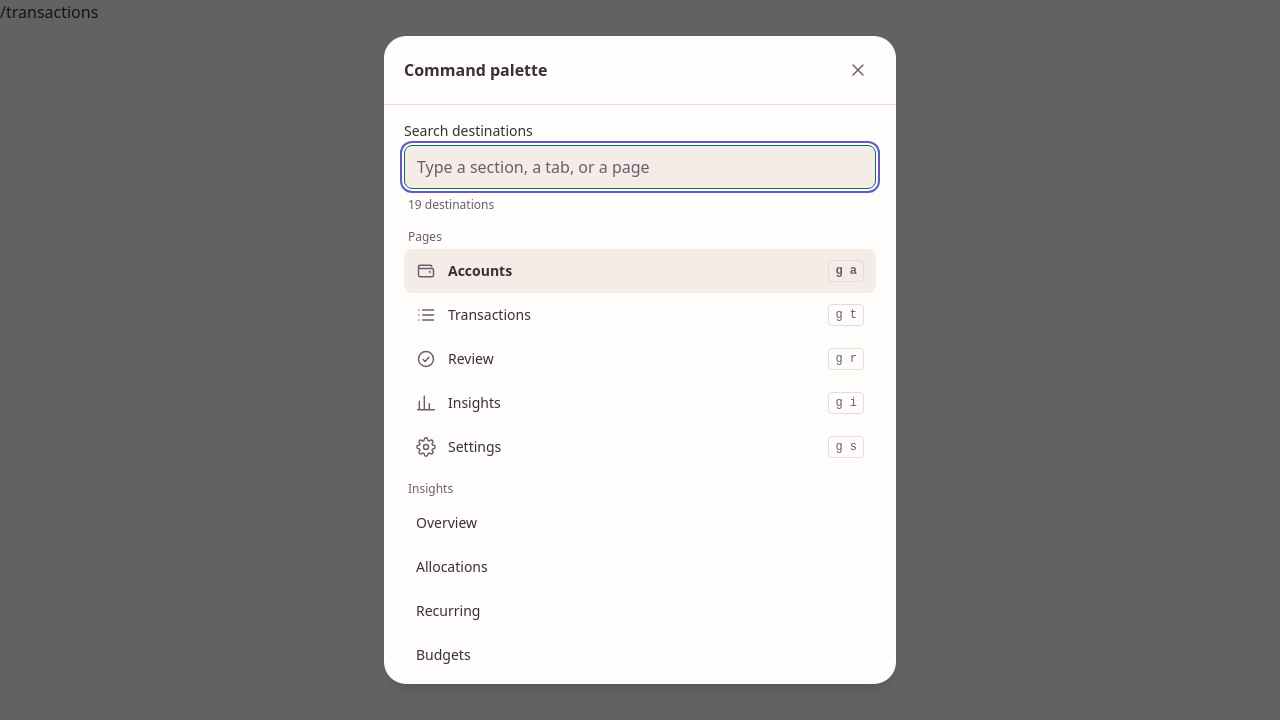
Test: <CommandPalette /> › matches a tab by the section it is in, not only by its own name
The image size is (1280, 720).
Type "settings owner" into the dropdown with test id "palette-input".
click(640, 167); type("settings owner")  # box 404,145 -> 876,189
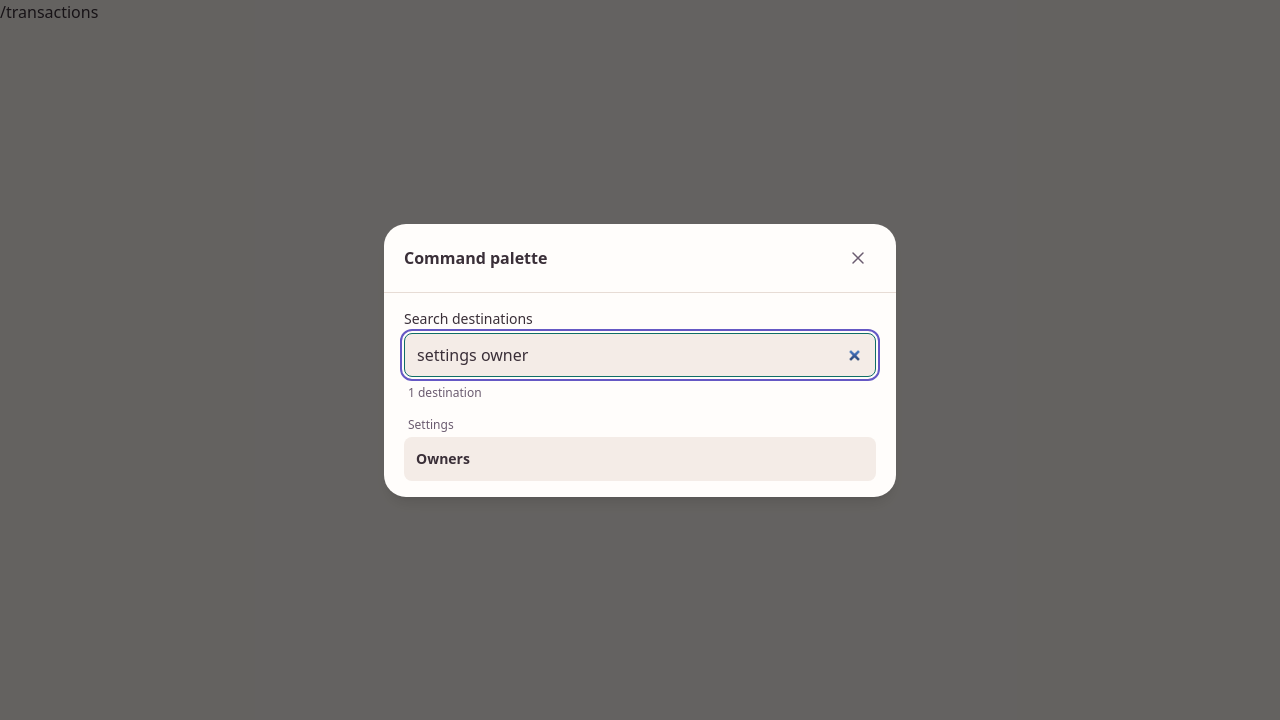
Expected: the option with test id "palette-option-settings-owners" is shown, 404,436 -> 876,480
